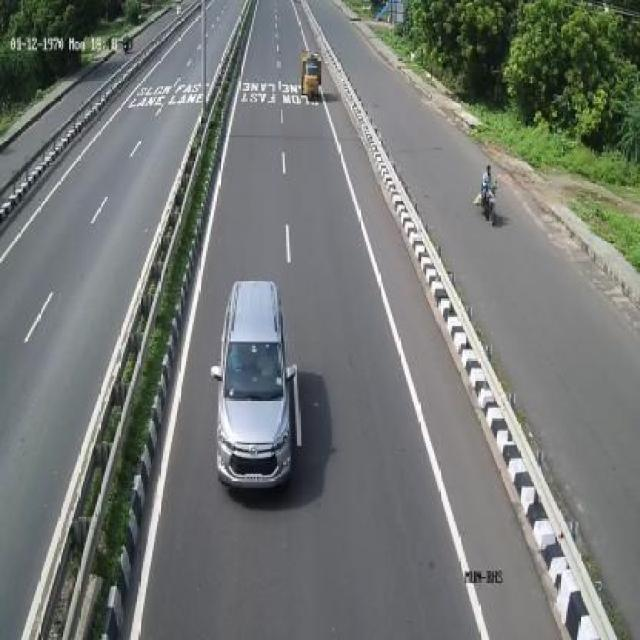car: (214, 269, 295, 497)
